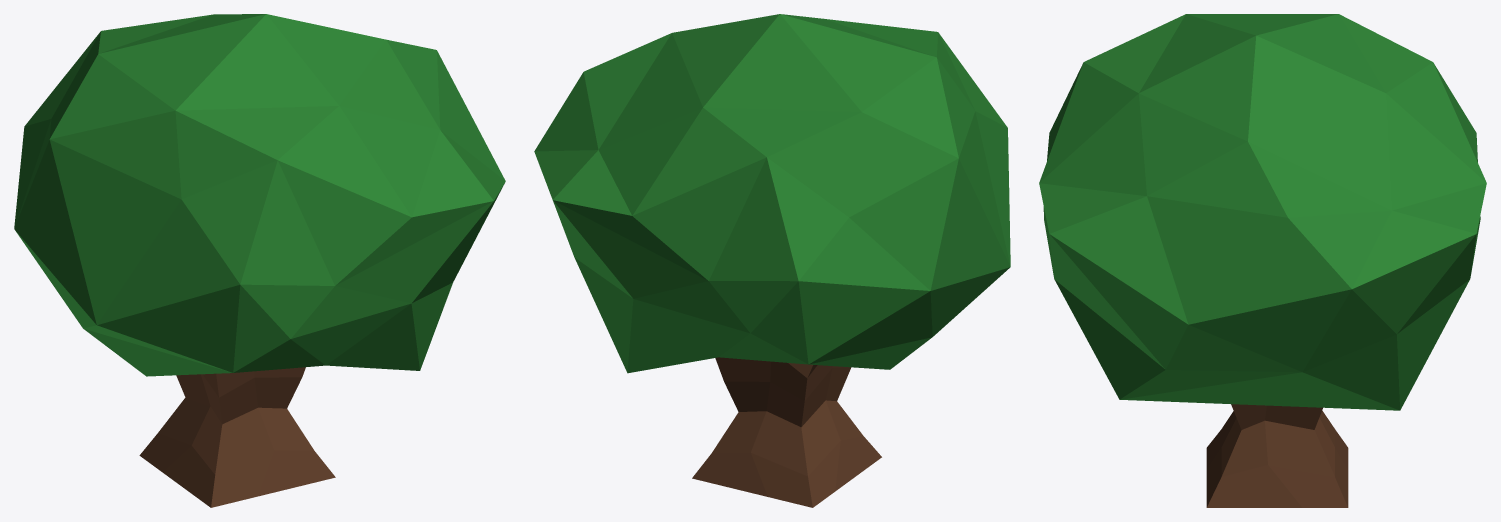
The model's file is Tree_33_Green.fbx.
The picture shows the model from 3 angles, left to right: view 1: azimuth 30°, elevation 25°; view 2: azimuth 150°, elevation 25°; view 3: azimuth 270°, elevation 25°; orthographic projection. The views are drawn at different scales.
Parts seen in each view (by area): view 1: Tree_33_Green_Part_1, Tree_33_Green_Part_2; view 2: Tree_33_Green_Part_1, Tree_33_Green_Part_2; view 3: Tree_33_Green_Part_1, Tree_33_Green_Part_2.
Part boxes in pixels (x1=…): Tree_33_Green_Part_1: x1=14, y1=14, x2=505, y2=376; Tree_33_Green_Part_2: x1=139, y1=367, x2=335, y2=507; Tree_33_Green_Part_1: x1=534, y1=14, x2=1010, y2=373; Tree_33_Green_Part_2: x1=692, y1=357, x2=881, y2=507; Tree_33_Green_Part_1: x1=1039, y1=14, x2=1486, y2=410; Tree_33_Green_Part_2: x1=1206, y1=404, x2=1348, y2=507.
Size of the model in its own units: 762 by 812 by 731.
